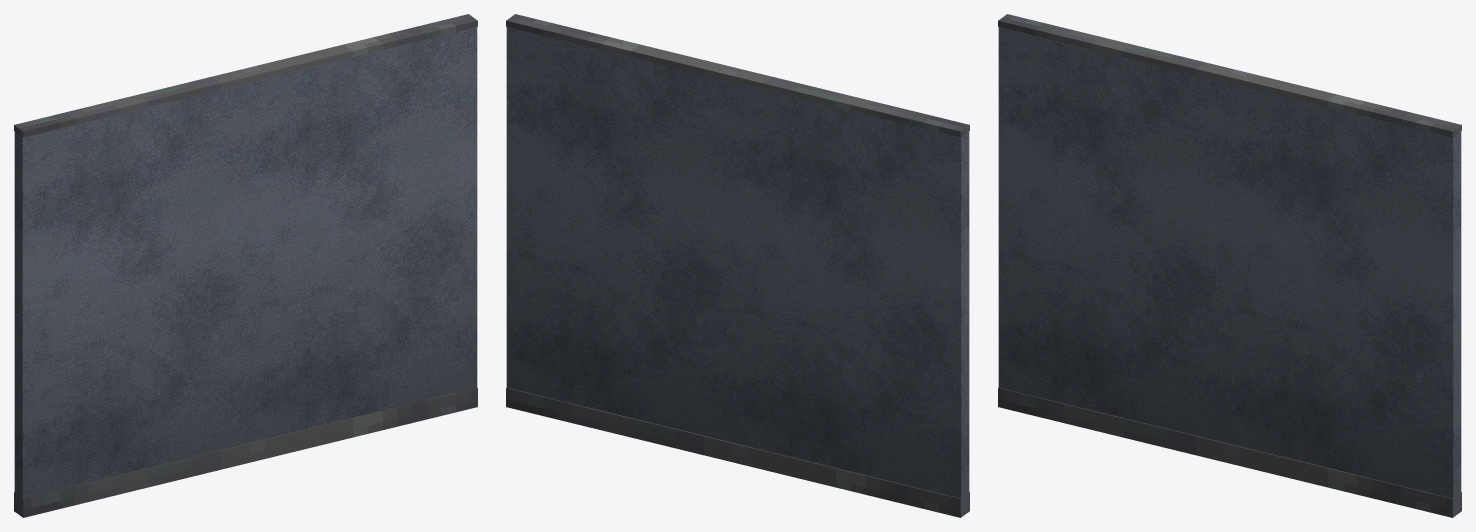
File: cubicle_panel.glb
3 renders of one model, left to right at view 1: azimuth 30°, elevation 25°; view 2: azimuth 150°, elevation 25°; view 3: azimuth 330°, elevation 25°, orthographic.
Parts seen in each view (by area): view 1: cubicle_panel; view 2: cubicle_panel; view 3: cubicle_panel.
Part boxes in pixels (x1,y1,x2,y2): cubicle_panel: (14,14,477,517); cubicle_panel: (506,14,969,517); cubicle_panel: (998,14,1461,517).
Bounding box in the file's own units: 2 × 1.62 × 0.07.
